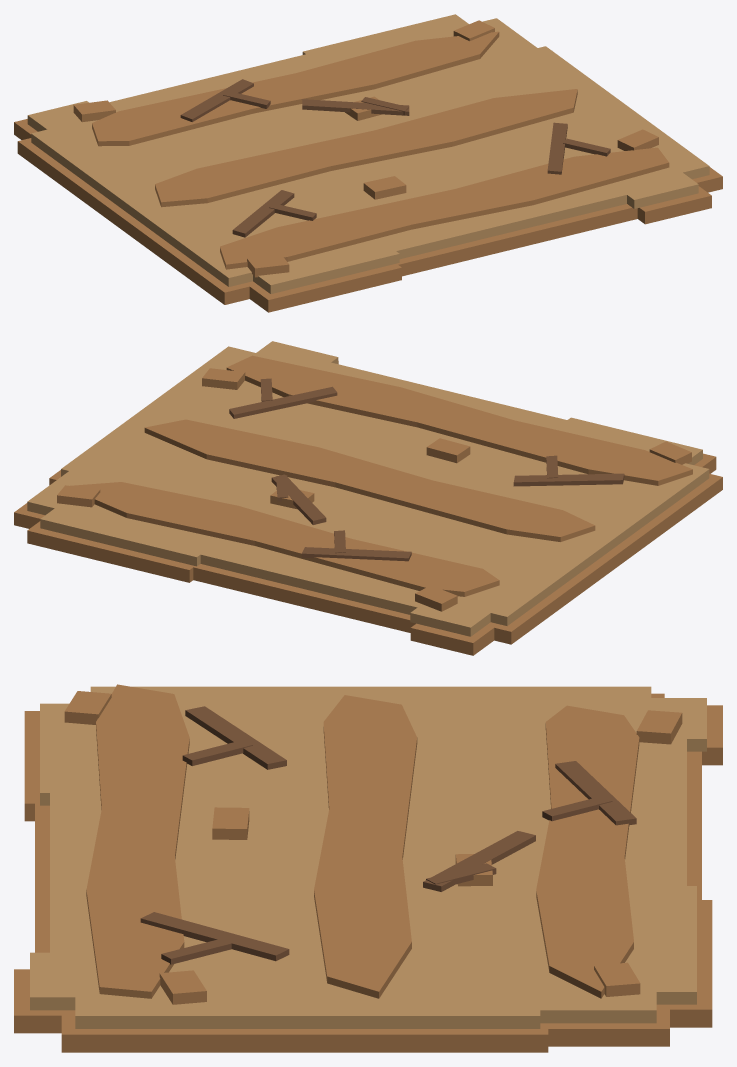
The model's file is plot-dry.glb.
The picture shows the model from 3 angles, top to bottom: view 1: azimuth 30°, elevation 25°; view 2: azimuth 150°, elevation 25°; view 3: azimuth 270°, elevation 25°; orthographic projection. The views are drawn at different scales.
Parts seen in each view (by area): view 1: Earth clod; view 2: Earth clod; view 3: Earth clod.
Part boxes in pixels (box(x1,y1,x2,y2)): Earth clod: box(14, 14, 722, 312); Earth clod: box(14, 341, 722, 655); Earth clod: box(14, 684, 722, 1052).
Bounding box in the file's own units: 1.77 × 0.103 × 1.55.
